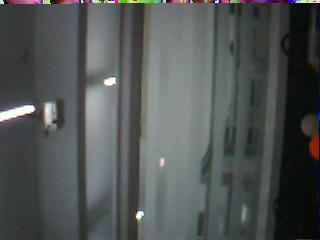oball: (309, 134, 320, 159)
